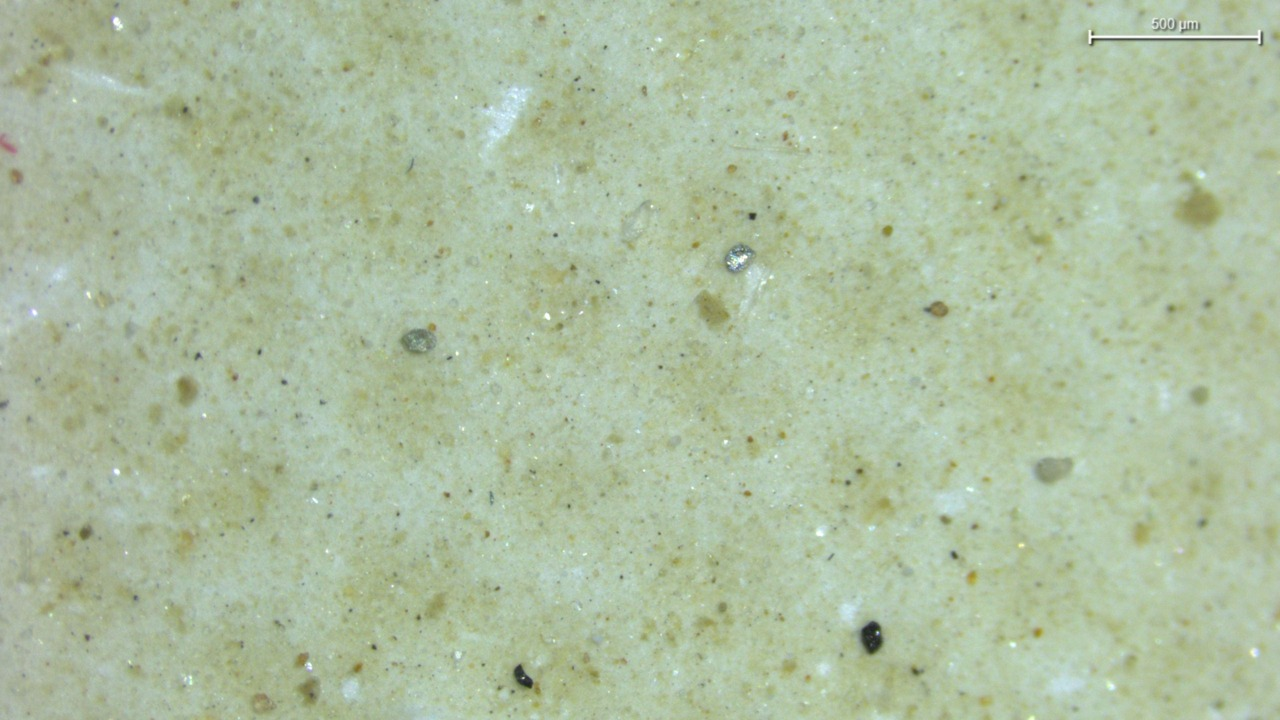microplastic_fragment: (1033, 457, 1073, 484), (400, 329, 436, 353), (725, 245, 754, 272)
